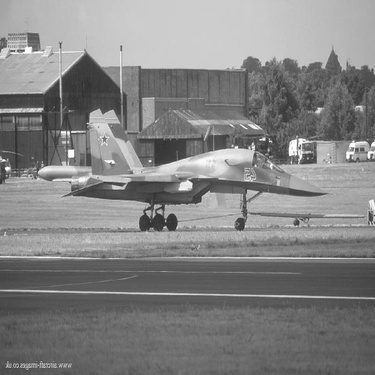airplane: (20, 106, 340, 233)
